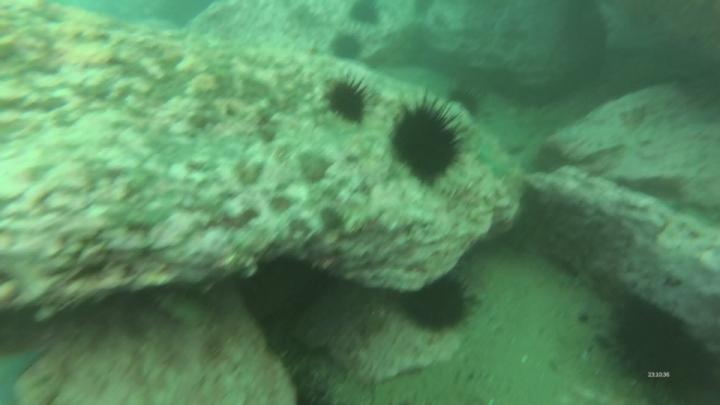echinus: (602, 286, 720, 405), (385, 81, 473, 187), (398, 267, 481, 340), (324, 67, 378, 126), (446, 74, 488, 122), (328, 24, 370, 64), (342, 1, 391, 29)
